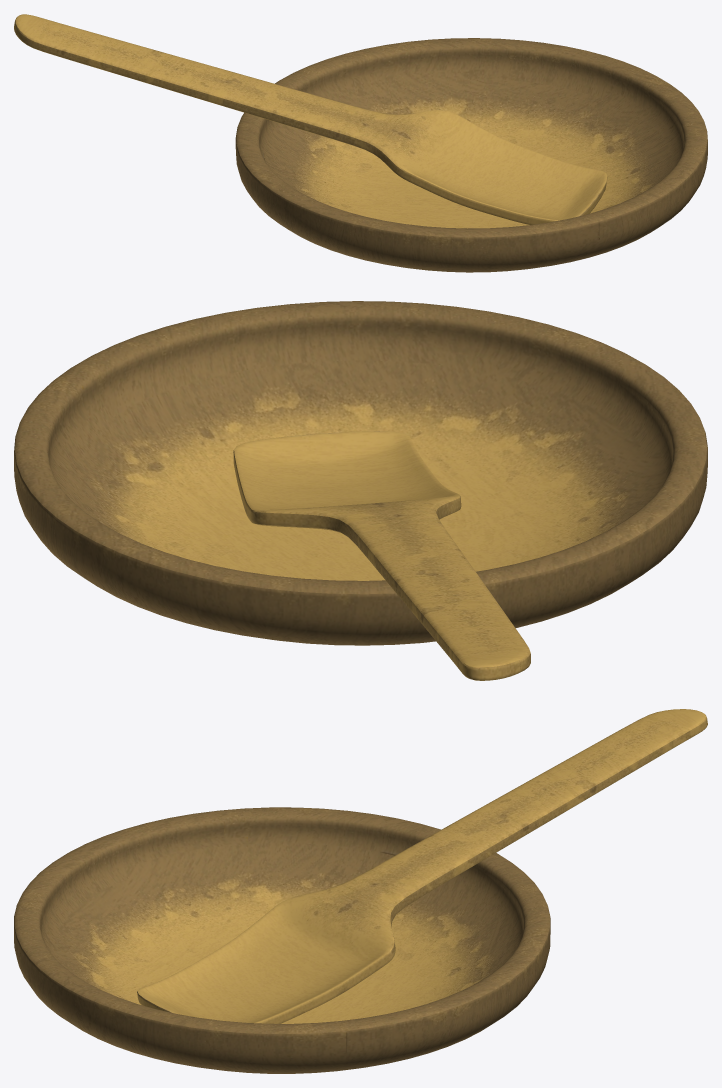
The model's file is Kalanan1.fbx.
The picture shows the model from 3 angles, top to bottom: view 1: azimuth 30°, elevation 25°; view 2: azimuth 150°, elevation 25°; view 3: azimuth 270°, elevation 25°; orthographic projection. The views are drawn at different scales.
Visible parts, largest first — view 1: Kalanan.001; view 2: Kalanan.001; view 3: Kalanan.001.
Part boxes in pixels (box(x1,y1,x2,y2)): Kalanan.001: box(14, 14, 707, 272); Kalanan.001: box(14, 301, 707, 680); Kalanan.001: box(14, 709, 707, 1073).
Bounding box in the file's own units: 87.16 × 20.89 × 94.99.
1 material, 1 textured.
